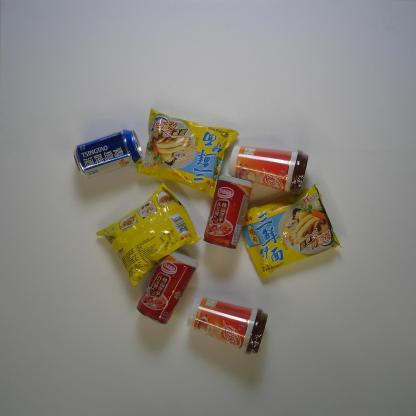Alcohol: (73, 128, 143, 178)
Canned Food: (136, 251, 200, 325), (202, 174, 254, 249)
Instant Drink: (186, 296, 269, 356), (228, 144, 310, 196)
Instant Noodles: (96, 183, 202, 288), (240, 183, 344, 279), (135, 108, 240, 198)
